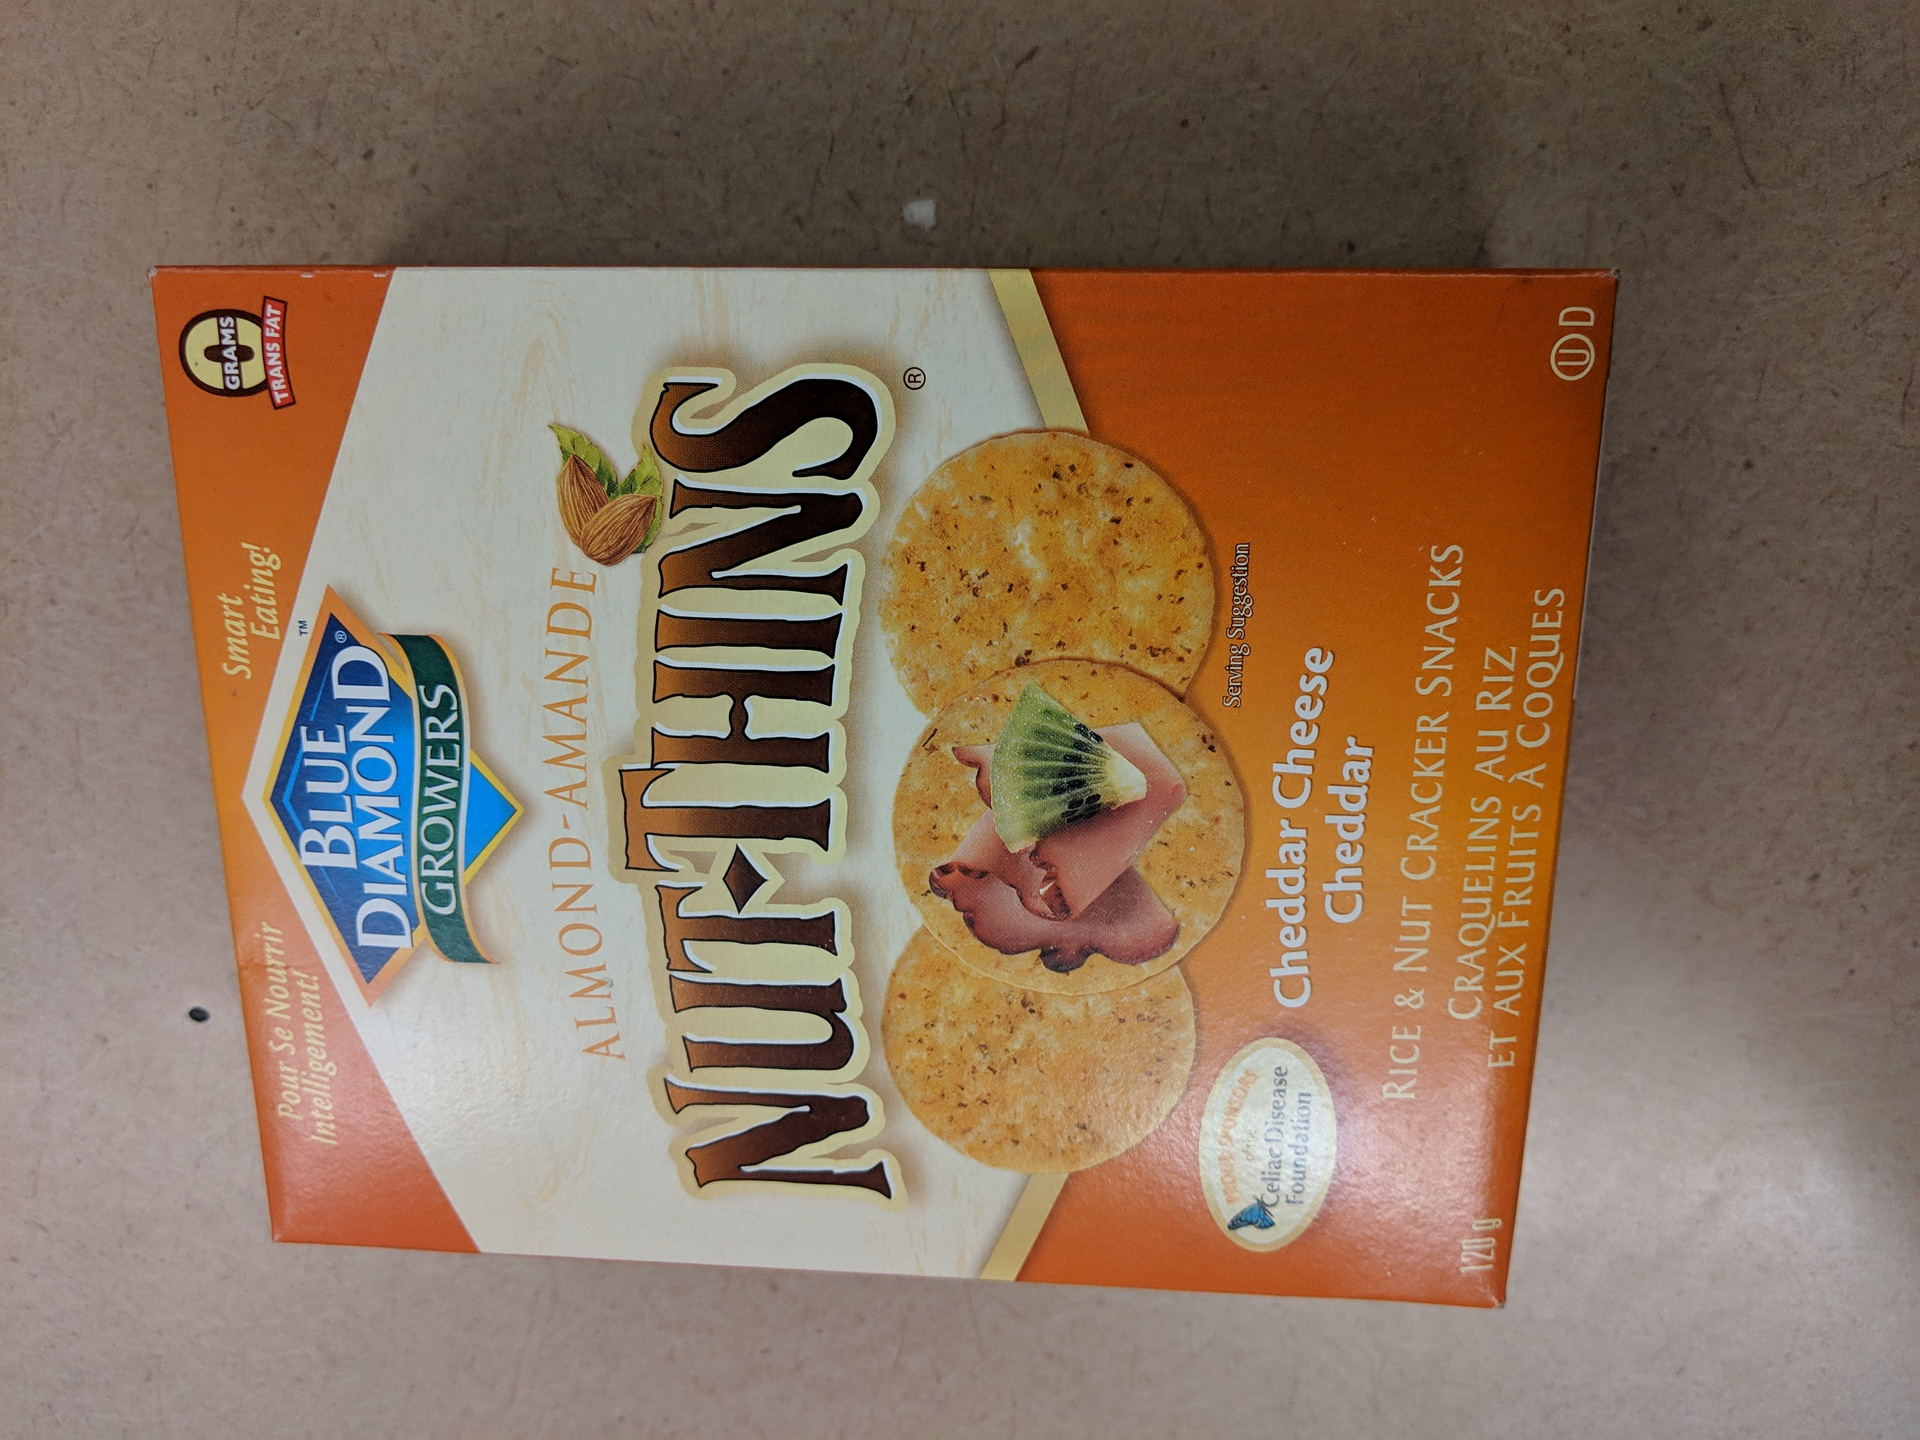blue_diamond_nut_thins_almond_cheddar: (135, 241, 1674, 1331)
